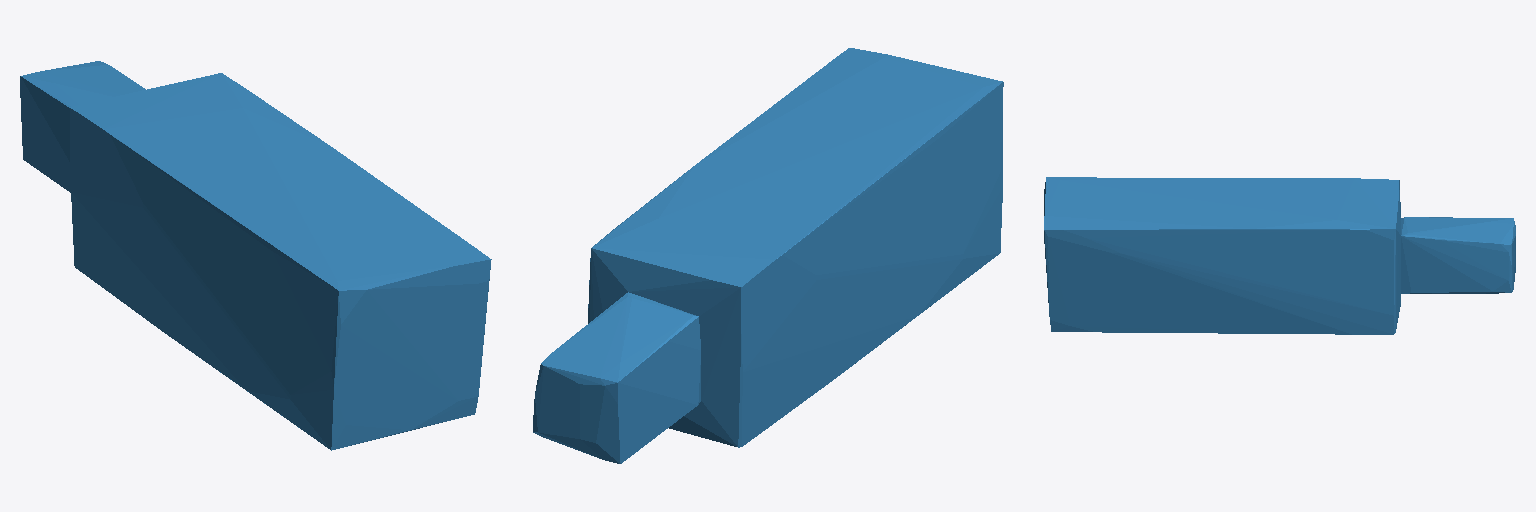
The robot description file, URDF, robot "blob460":
<robot name="blob460">
  <link name="random_obj_460">
    <contact>
      <lateral_friction value="1.0"/>
      <rolling_friction value="0.0"/>
      <inertia_scaling value="3.0"/>
      <contact_cfm value="0.0"/>
      <contact_erp value="1.0"/>
    </contact>
    <inertial>
      <origin rpy="0 0 0" xyz="0 0 0"/>
      <mass value="0.1"/>
      <inertia ixx="1" ixy="0" ixz="0" iyy="1" iyz="0" izz="0"/>
    </inertial>
    <visual>
      <origin rpy="0 0 0" xyz="0 0 0"/>
      <geometry>
        <mesh filename="460.obj" scale="0.015 0.015 0.015"/>
      </geometry>
      <material name="blockmat">
        <color rgba="0.29 0.59 0.79 1"/>
      </material>
    </visual>
    <collision>
      <origin rpy="0 0 0" xyz="0 0 0"/>
      <geometry>
        <mesh filename="460.obj" scale="0.015 0.015 0.015"/>
      </geometry>
    </collision>
  </link>
</robot>

--- Render facts (derived) ---
3 views of the same robot in one strip: view 1: azimuth 30°, elevation 25°; view 2: azimuth 150°, elevation 25°; view 3: azimuth 270°, elevation 25° (orthographic).
Model blob460 with 1 links and 0 joints (none), rooted at random_obj_460, posed every joint at zero.
Links seen in each view (by area): view 1: random_obj_460; view 2: random_obj_460; view 3: random_obj_460.
Boxes of the visible links, x1,y1,x2,y2 form: random_obj_460: [20, 61, 491, 450]; random_obj_460: [533, 48, 1003, 463]; random_obj_460: [1044, 177, 1515, 334].
Bounding box of the posed robot: 0.0318 × 0.122 × 0.0318 m (x, y, z).
1 mesh visuals loaded from 1 distinct referenced files (1 OBJ).